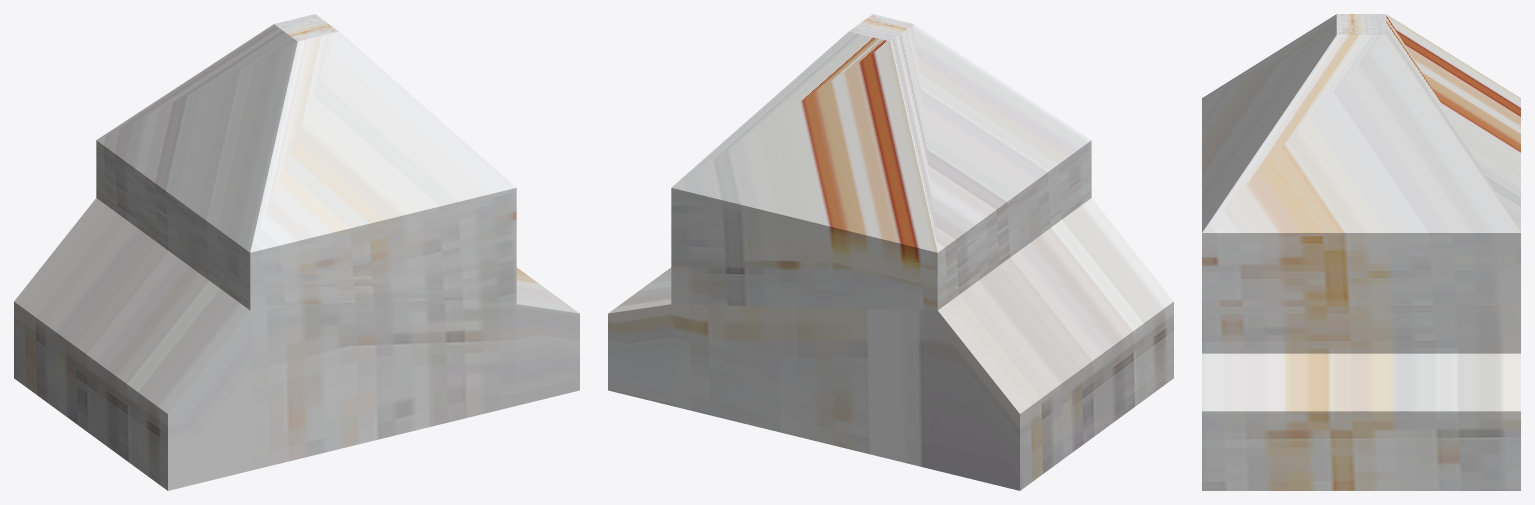
File: robot_base_v1.fbx
3 views of the same model, side by side, from view 1: azimuth 30°, elevation 25°; view 2: azimuth 150°, elevation 25°; view 3: azimuth 270°, elevation 25° (orthographic). The views are drawn at different scales.
Visible parts, largest first — view 1: Cube; view 2: Cube; view 3: Cube.
Boxes of the visible parts, x1=… form: Cube: x1=14, y1=14, x2=579, y2=490; Cube: x1=608, y1=14, x2=1173, y2=490; Cube: x1=1202, y1=14, x2=1520, y2=490.
Bounding box in the file's own units: 171 × 140 × 110.
1 material, 1 textured.
